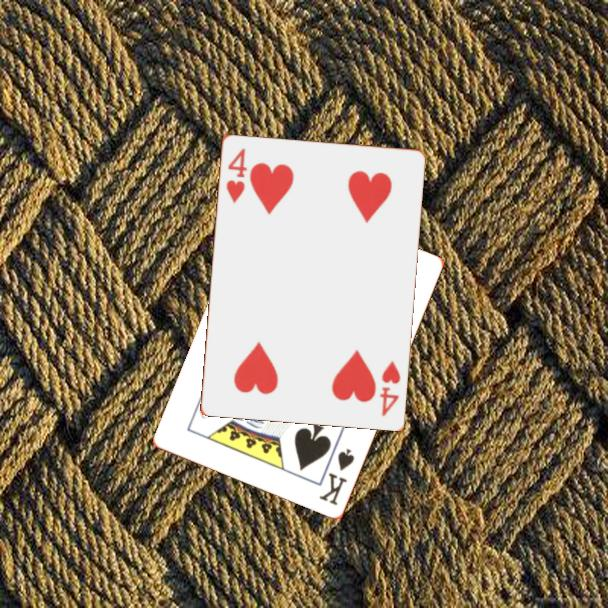h04: (222, 144, 250, 206), (376, 356, 403, 419)
s13: (316, 445, 358, 509)
